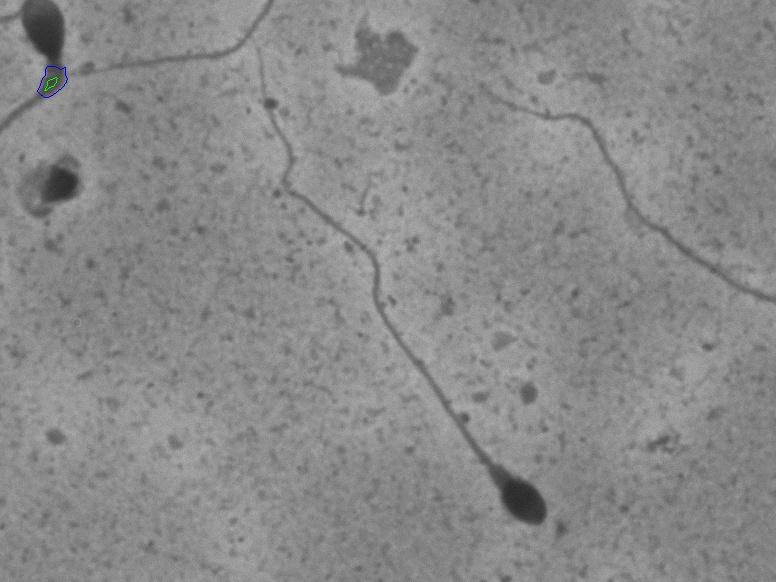Normal: (243, 28, 560, 542)
